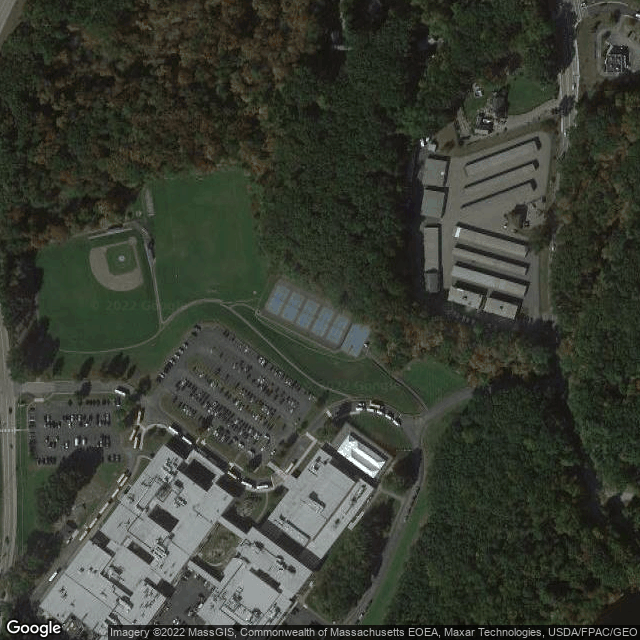Court: (280, 289, 305, 323), (326, 312, 351, 346), (312, 306, 338, 338), (296, 298, 321, 331), (266, 283, 289, 315)
